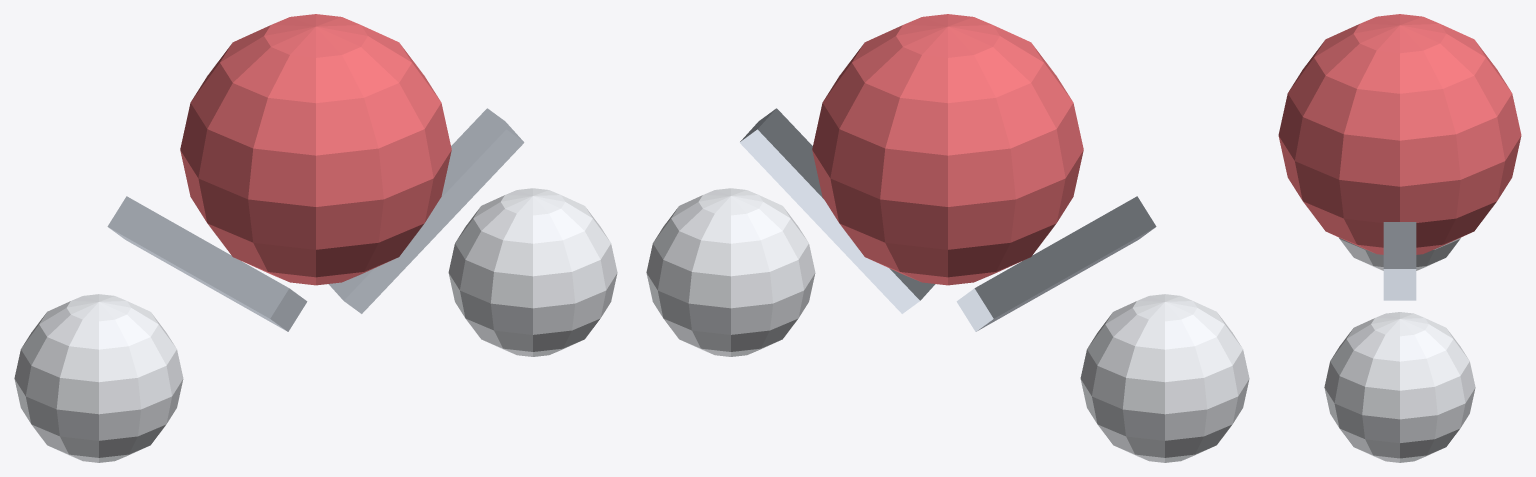
Rendered from water_molecule.glb.
3 renders of one model, left to right at view 1: azimuth 30°, elevation 25°; view 2: azimuth 150°, elevation 25°; view 3: azimuth 270°, elevation 25°, orthographic. The views are drawn at different scales.
Parts seen in each view (by area): view 1: Oxygen_Atom, Hydrogen_Atom_1, Hydrogen_Atom_2, Covalent_Bond_2, Covalent_Bond_1; view 2: Oxygen_Atom, Hydrogen_Atom_1, Hydrogen_Atom_2, Covalent_Bond_2, Covalent_Bond_1; view 3: Oxygen_Atom, Hydrogen_Atom_1, Covalent_Bond_1, Hydrogen_Atom_2.
Part boxes in pixels (<box>): Oxygen_Atom: <box>180,14,451,285</box>; Hydrogen_Atom_1: <box>448,188,617,356</box>; Hydrogen_Atom_2: <box>14,294,183,462</box>; Covalent_Bond_2: <box>107,196,307,331</box>; Covalent_Bond_1: <box>328,108,524,313</box>; Oxygen_Atom: <box>812,14,1083,285</box>; Hydrogen_Atom_1: <box>646,188,815,356</box>; Hydrogen_Atom_2: <box>1080,294,1249,462</box>; Covalent_Bond_2: <box>956,196,1156,331</box>; Covalent_Bond_1: <box>739,108,935,313</box>; Oxygen_Atom: <box>1278,14,1521,254</box>; Hydrogen_Atom_1: <box>1324,312,1475,462</box>; Covalent_Bond_1: <box>1383,222,1416,300</box>; Hydrogen_Atom_2: <box>1338,237,1461,270</box>.
Bounding box in the file's own units: 2.22 × 1.37 × 0.9.
